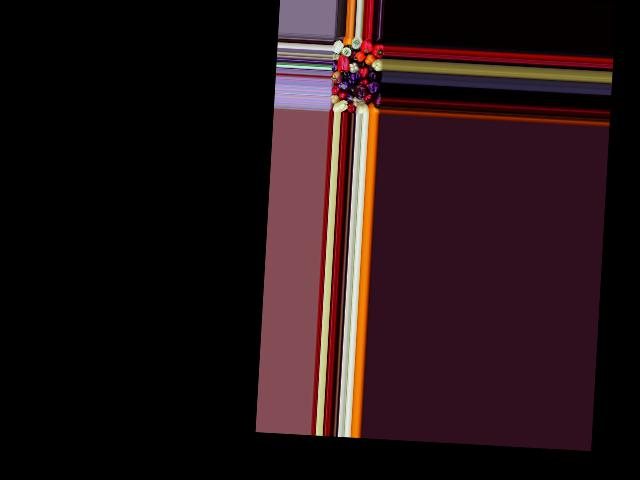bell_pepper: (352, 37, 362, 51)
